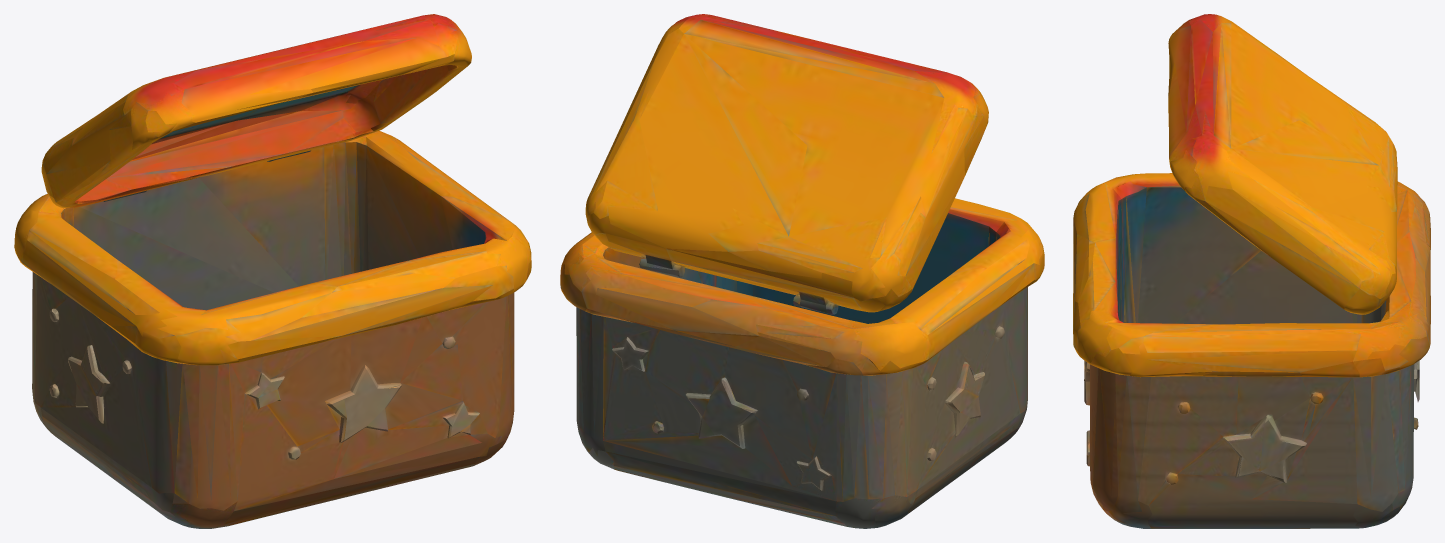
The model's file is storyBox.3c134a7e.glb.
3 views of the same model, side by side, from view 1: azimuth 30°, elevation 25°; view 2: azimuth 150°, elevation 25°; view 3: azimuth 270°, elevation 25° (orthographic). The views are drawn at different scales.
Parts seen in each view (by area): view 1: output_unwrapped; view 2: output_unwrapped; view 3: output_unwrapped.
Boxes of the visible parts, x1,y1,x2,y2 form: output_unwrapped: (14, 14, 531, 528); output_unwrapped: (560, 14, 1044, 528); output_unwrapped: (1073, 14, 1430, 528).
Size of the model in its own units: 1.84 by 1.9 by 1.59.
Materials: 1 (1 with a texture image).
